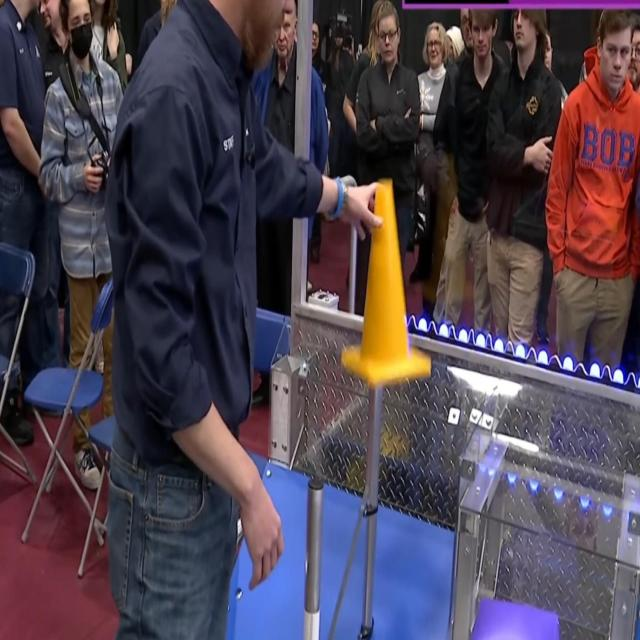frc_cone: (342, 184, 429, 388)
frc_cube: (463, 602, 561, 640)
